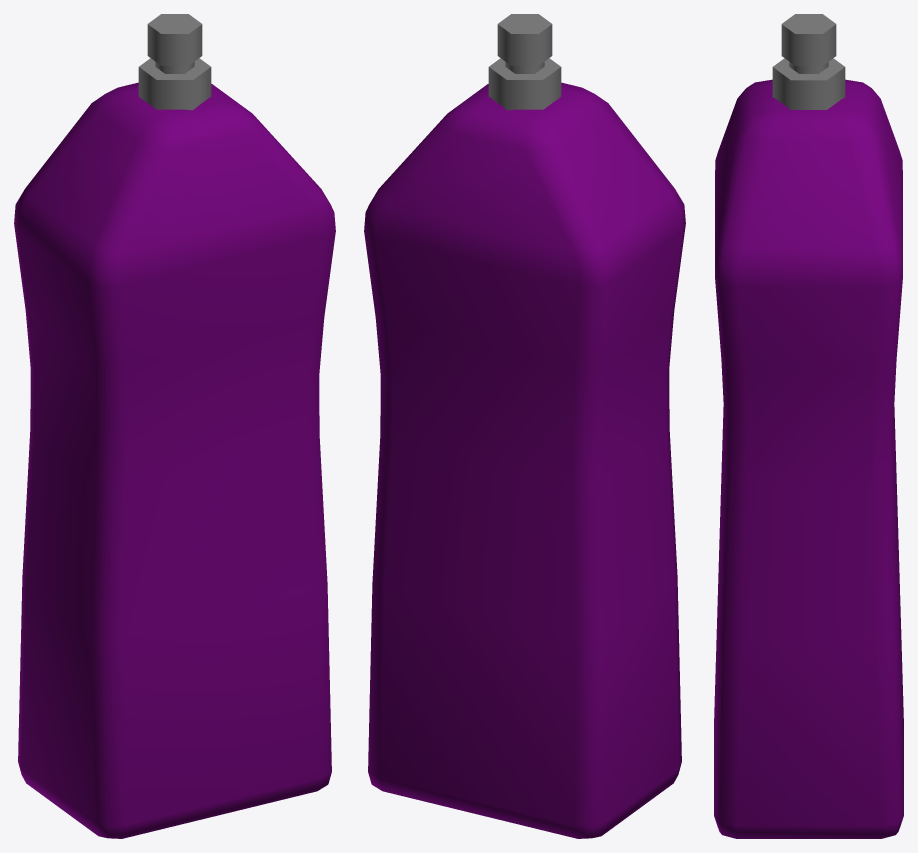
The model's file is SM_Cleaning_Product_03.fbx.
The picture shows the model from 3 angles, left to right: view 1: azimuth 30°, elevation 25°; view 2: azimuth 150°, elevation 25°; view 3: azimuth 270°, elevation 25°; orthographic projection.
Parts seen in each view (by area): view 1: SM_Cleaning_Product_03; view 2: SM_Cleaning_Product_03; view 3: SM_Cleaning_Product_03.
Boxes of the visible parts, x1,y1,x2,y2 form: SM_Cleaning_Product_03: (14,14,335,838); SM_Cleaning_Product_03: (364,14,685,838); SM_Cleaning_Product_03: (714,14,903,838).
Bounding box in the file's own units: 14.76 × 44.19 × 9.94.
